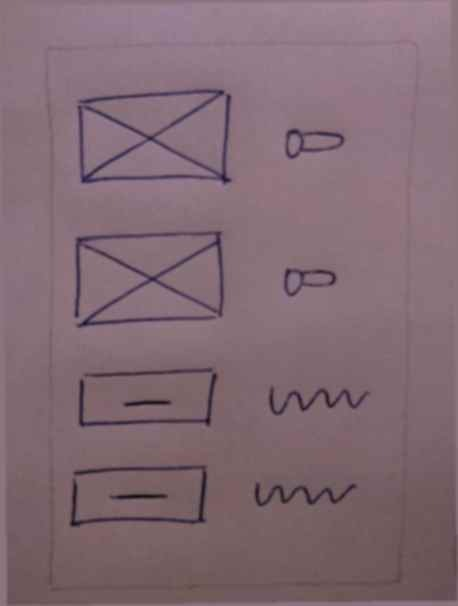button: (69, 360, 223, 436), (63, 457, 217, 533)
image: (71, 84, 240, 196), (64, 222, 233, 334)
switch: (273, 249, 346, 304), (278, 117, 351, 171)
text: (258, 371, 377, 433), (246, 469, 365, 520)
